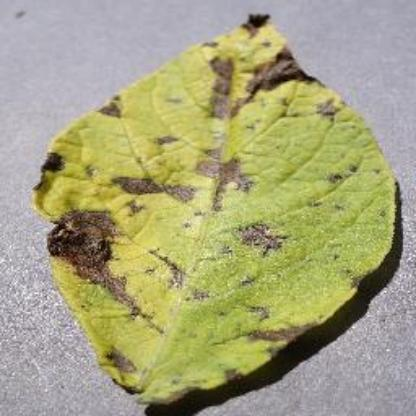Early-Blight: (27, 12, 415, 412)
